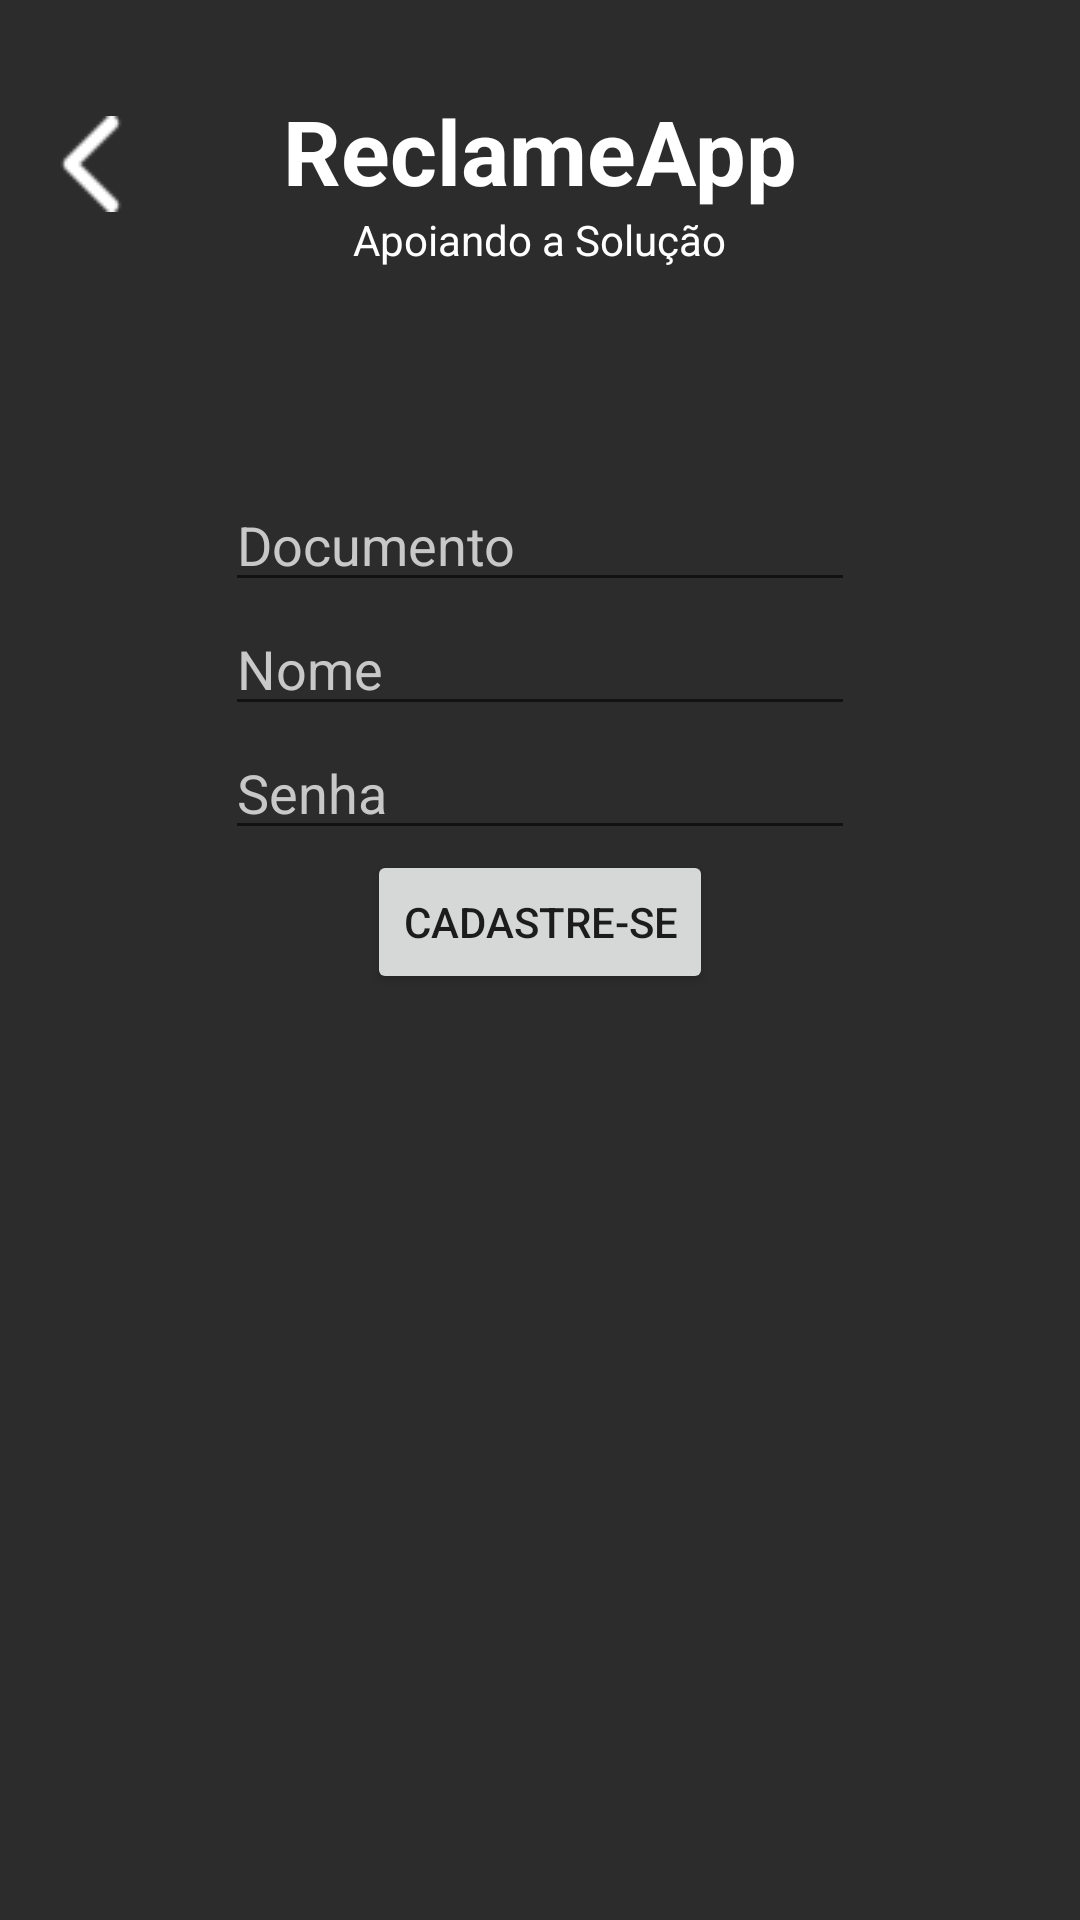

Named icons in this screenshot (1080 × 1920) and their bounding boxes, (x1, y1, x2, y2):
backicon: (62, 116, 121, 212)
